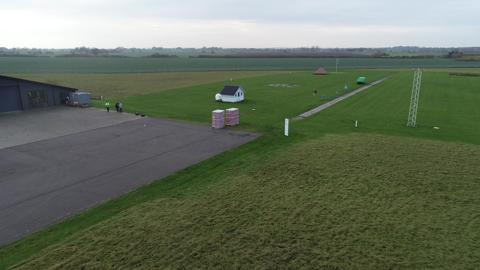RockwoolPallet: (226, 108, 239, 125)
